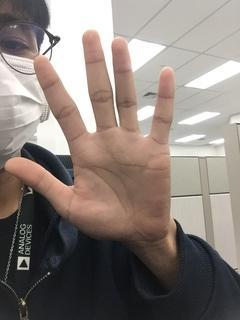hand: (7, 27, 174, 240)
